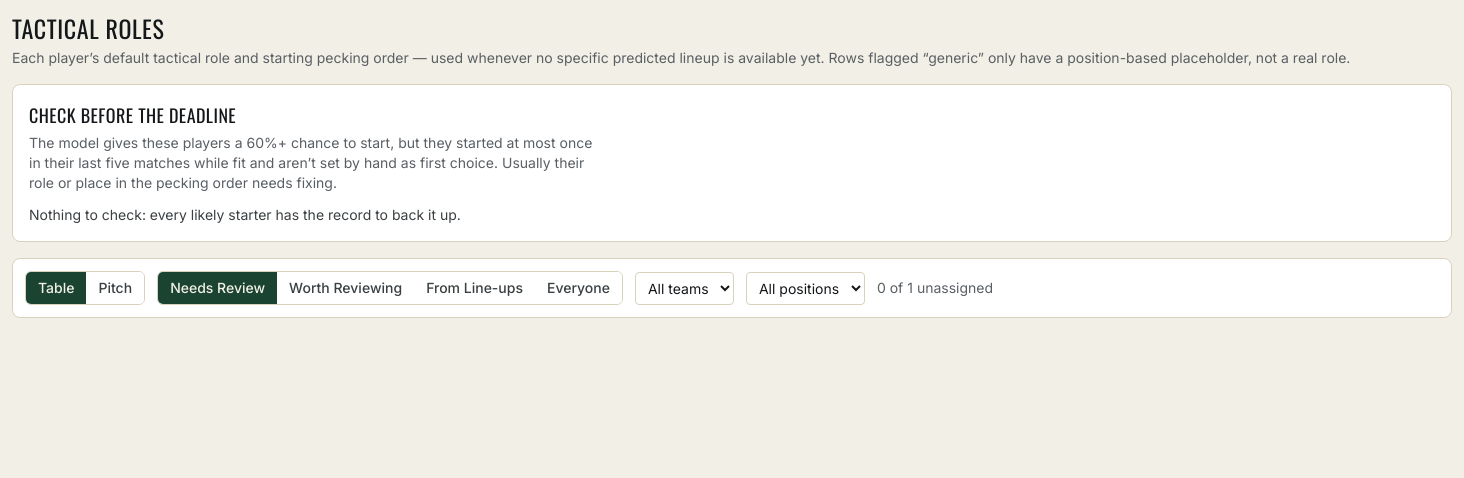
Test: TacticalRolesAdminPage › excludes players who have left the club, and shows an injury/availability badge for those still at the club
Expected: the text "0 of 1 unassigned" is shown, [877,278,993,298]
// Switch scope to "Everyone" so the manually-set Saliba row is visible.
Step 1. Click the button "Everyone" → [578, 288], box [535,272,622,304]
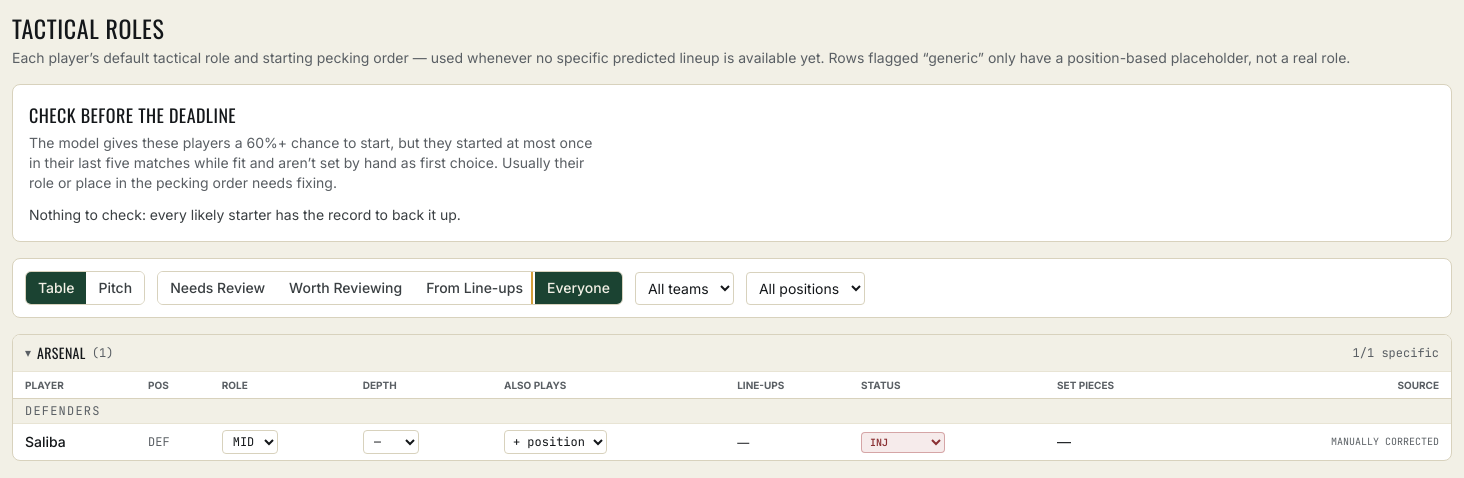
Now the text "Saliba" is shown, box [13,424,140,460]
